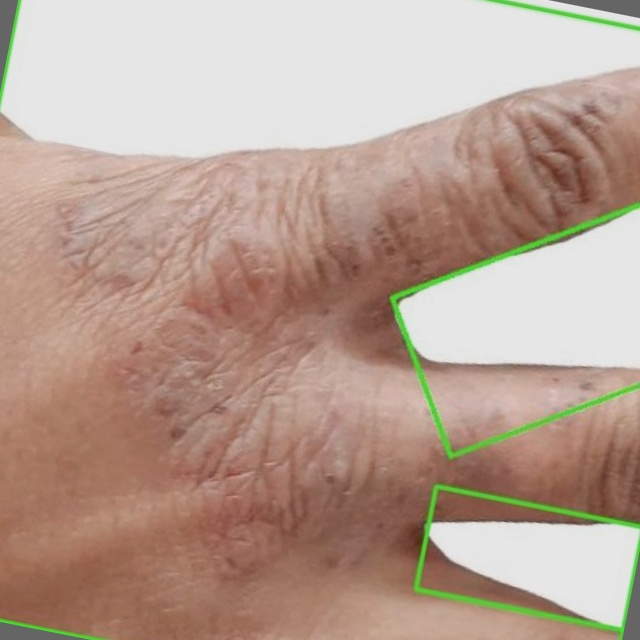Eczema: (0, 0, 639, 639), (366, 153, 639, 457), (416, 486, 639, 630)
